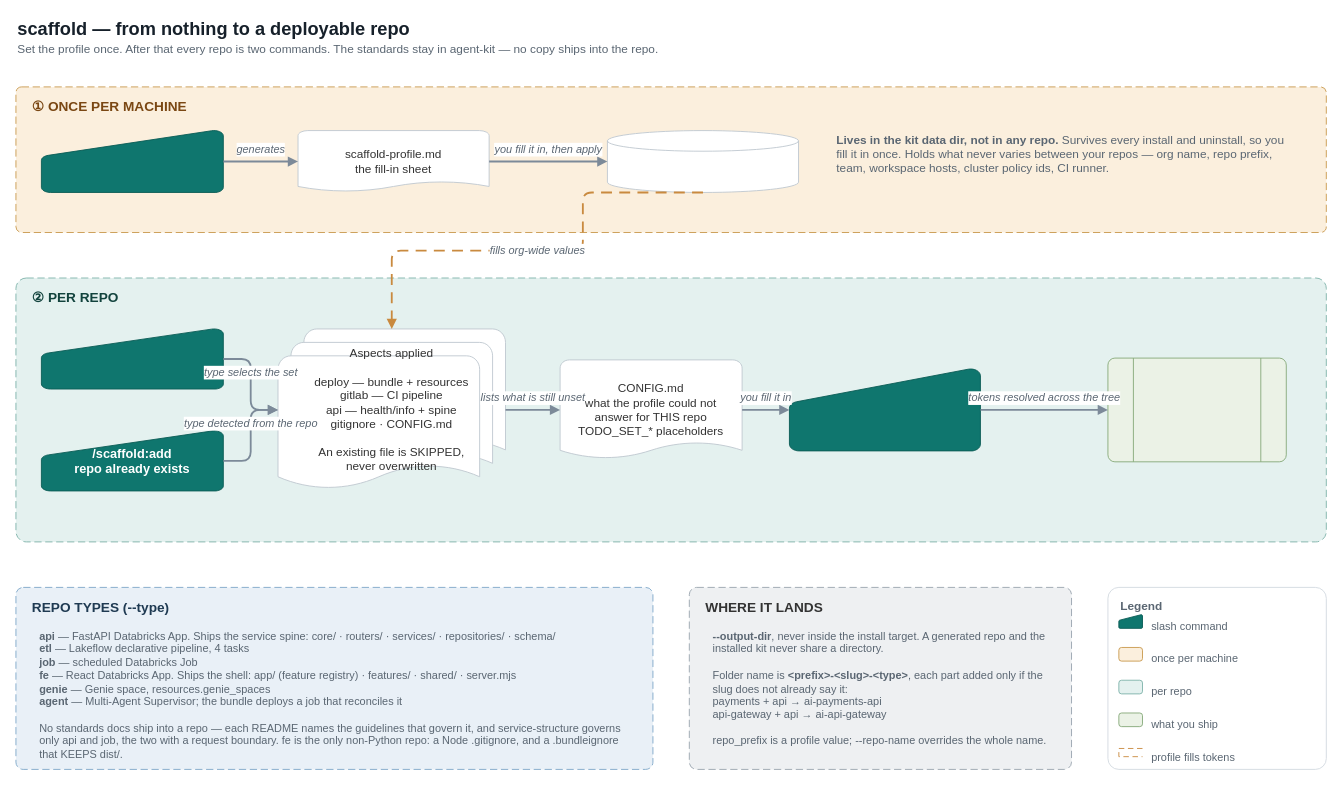
Image size: 1342x785. Some labels were removed from this diagram. Each missing label, with the centre of its shape:
/scaffold:configure applies the sheet: [885,409]
/scaffold:new from nothing: [131,358]
/scaffold:profile: [131,161]
Deployable repo local: run_local.sh → dev CI: merge to stg / prod: [1196,409]
scaffold-profile.json applied values: [703,161]
